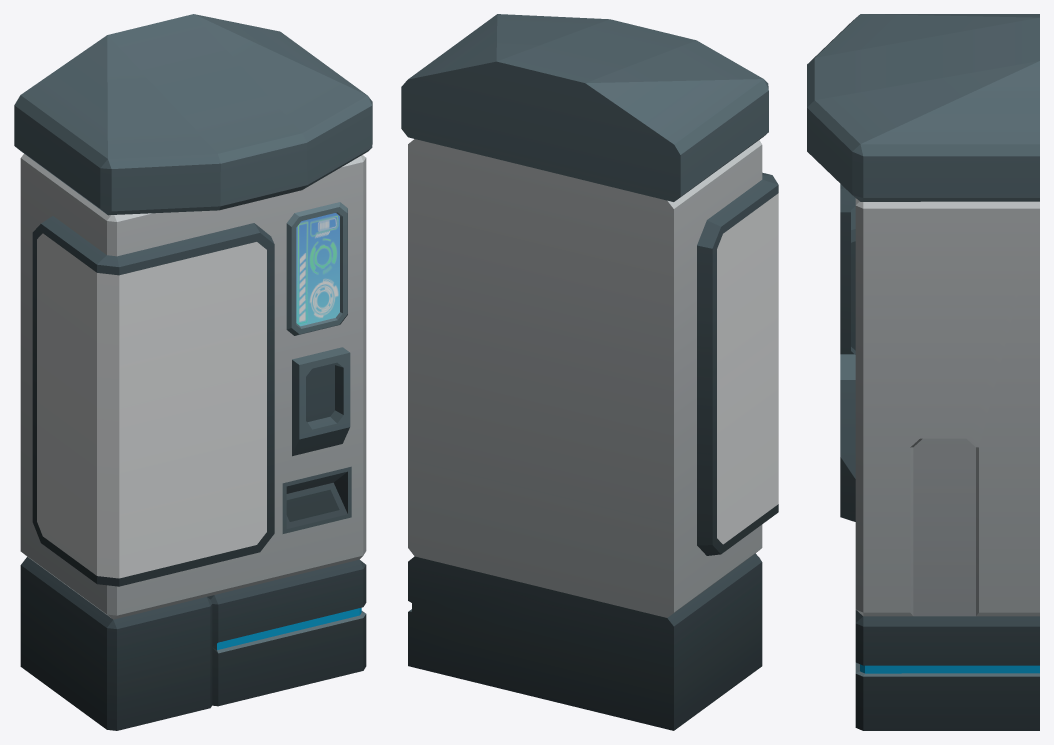
Rendered from Vending_Machine_007.fbx.
3 renders of one model, left to right at view 1: azimuth 30°, elevation 25°; view 2: azimuth 150°, elevation 25°; view 3: azimuth 270°, elevation 25°, orthographic. The views are drawn at different scales.
Visible parts, largest first — view 1: Vending_Machine_007; view 2: Vending_Machine_007; view 3: Vending_Machine_007.
Part boxes in pixels (x1=…): Vending_Machine_007: x1=14, y1=14, x2=372, y2=730; Vending_Machine_007: x1=401, y1=14, x2=778, y2=730; Vending_Machine_007: x1=807, y1=14, x2=1039, y2=730.
Size of the model in its own units: 107 by 75.79 by 225.
